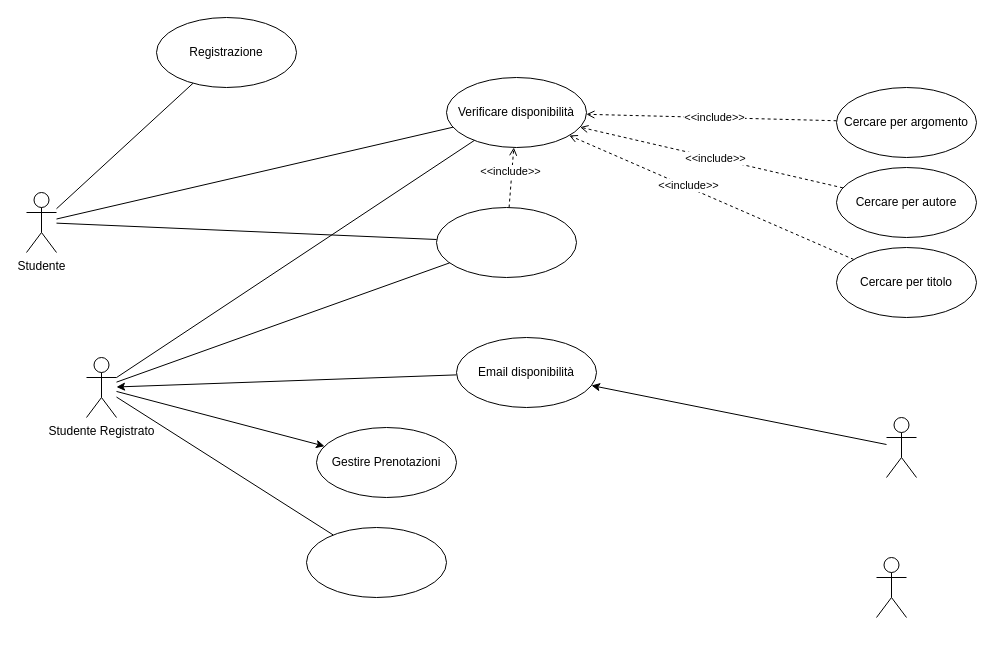
This 994x656 diagram has some shape labels left out. The centre of each missing label's shape, as x and y in pixels:
Amministratore: (891,587)
Login: (376,562)
Prenotare: (506,242)
Sistema: (901,447)
